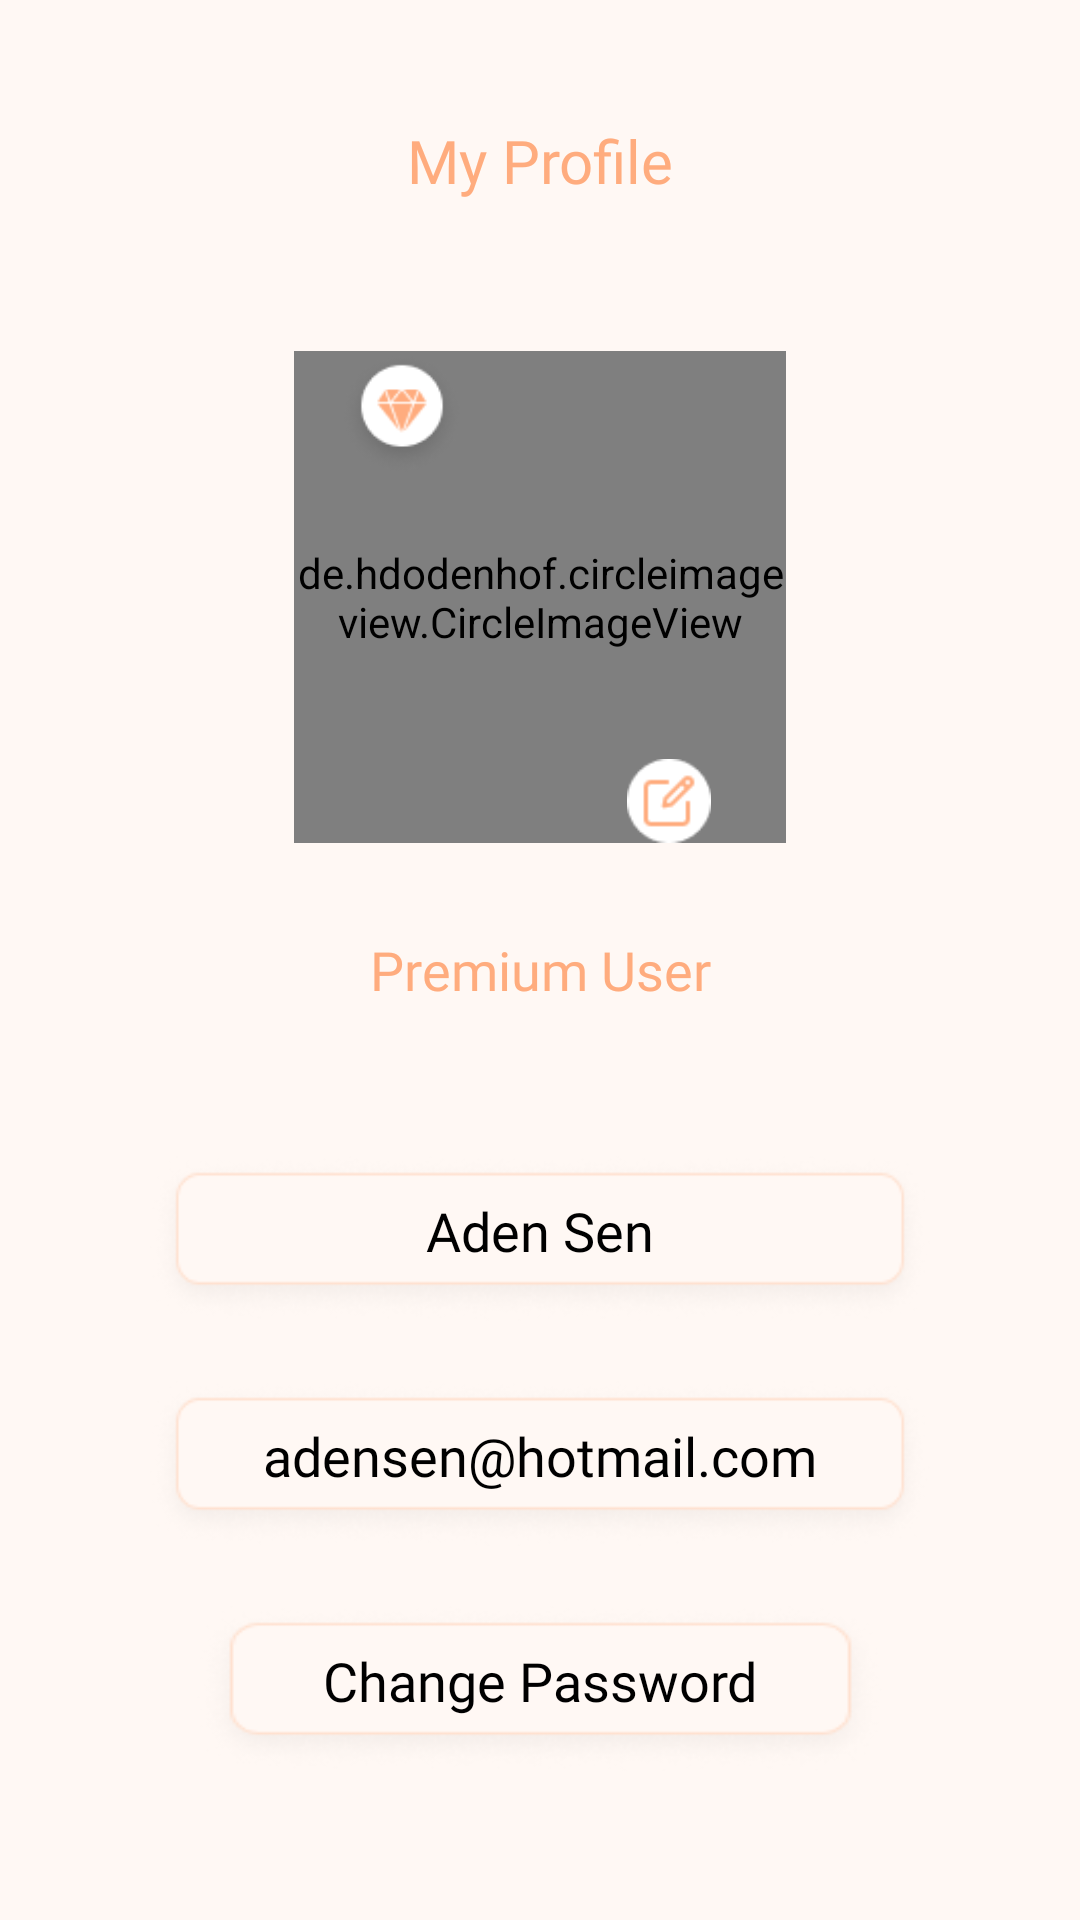

Locate icon controls on the screen. Image size 1080*1920, boxes as (x1, y1, x2, y2).
diamond: (361, 365, 443, 447)
edit: (627, 759, 711, 843)
